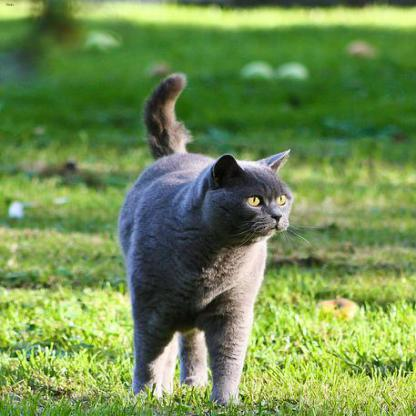cat: (118, 73, 293, 405)
